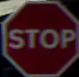Stop: (6, 2, 74, 69)
